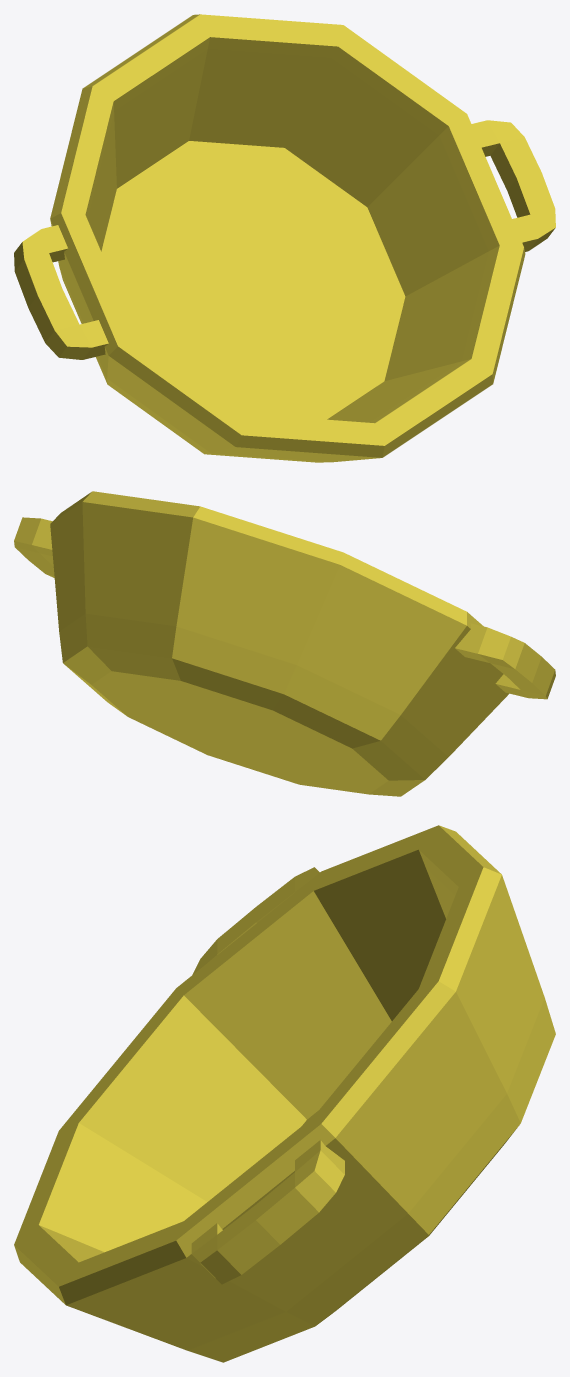
File: saucepan.glb
3 renders of one model, top to bottom at view 1: azimuth 30°, elevation 25°; view 2: azimuth 150°, elevation 25°; view 3: azimuth 270°, elevation 25°, orthographic. The views are drawn at different scales.
Visible parts, largest first — view 1: CookingPot2; view 2: CookingPot2; view 3: CookingPot2.
Part boxes in pixels (x1,y1,x2,y2): CookingPot2: [14, 14, 555, 462]; CookingPot2: [14, 491, 555, 796]; CookingPot2: [14, 825, 555, 1362].
Bounding box in the file's own units: 2.69 × 1.85 × 1.97.
